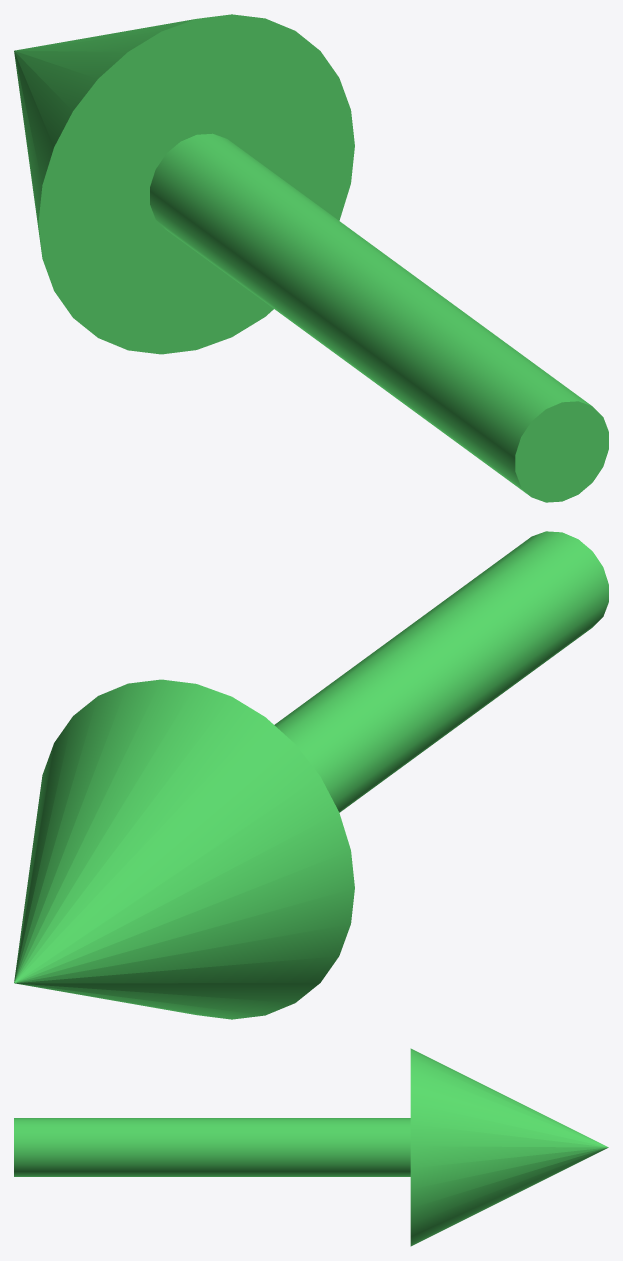
File: Translate_Y.fbx
3 views of the same model, one above another, from view 1: azimuth 30°, elevation 25°; view 2: azimuth 150°, elevation 25°; view 3: azimuth 270°, elevation 25° (orthographic). The views are drawn at different scales.
Visible parts, largest first — view 1: Y_Axis; view 2: Y_Axis; view 3: Y_Axis.
Part boxes in pixels (x1=…): Y_Axis: x1=14, y1=14, x2=608, y2=502; Y_Axis: x1=14, y1=531, x2=608, y2=1019; Y_Axis: x1=14, y1=1048, x2=608, y2=1246.
Size of the model in its own units: 20 by 20 by 60.
